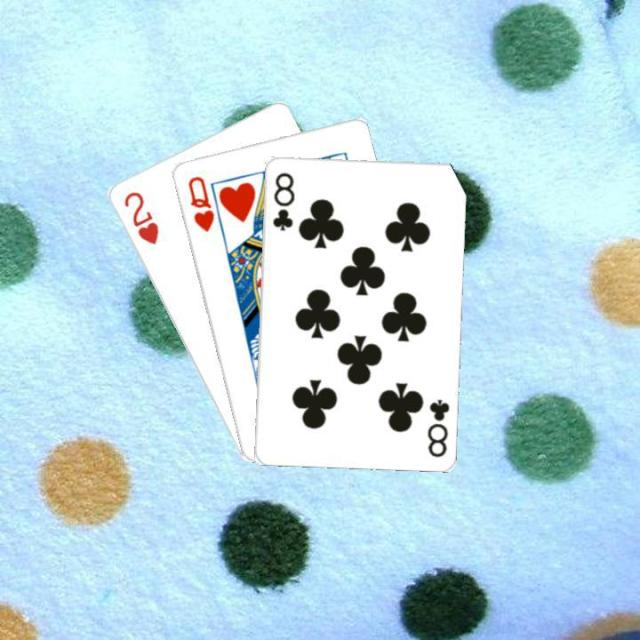2H: (119, 188, 160, 246)
8C: (422, 394, 452, 458), (268, 168, 296, 232)
QH: (183, 172, 216, 234)
